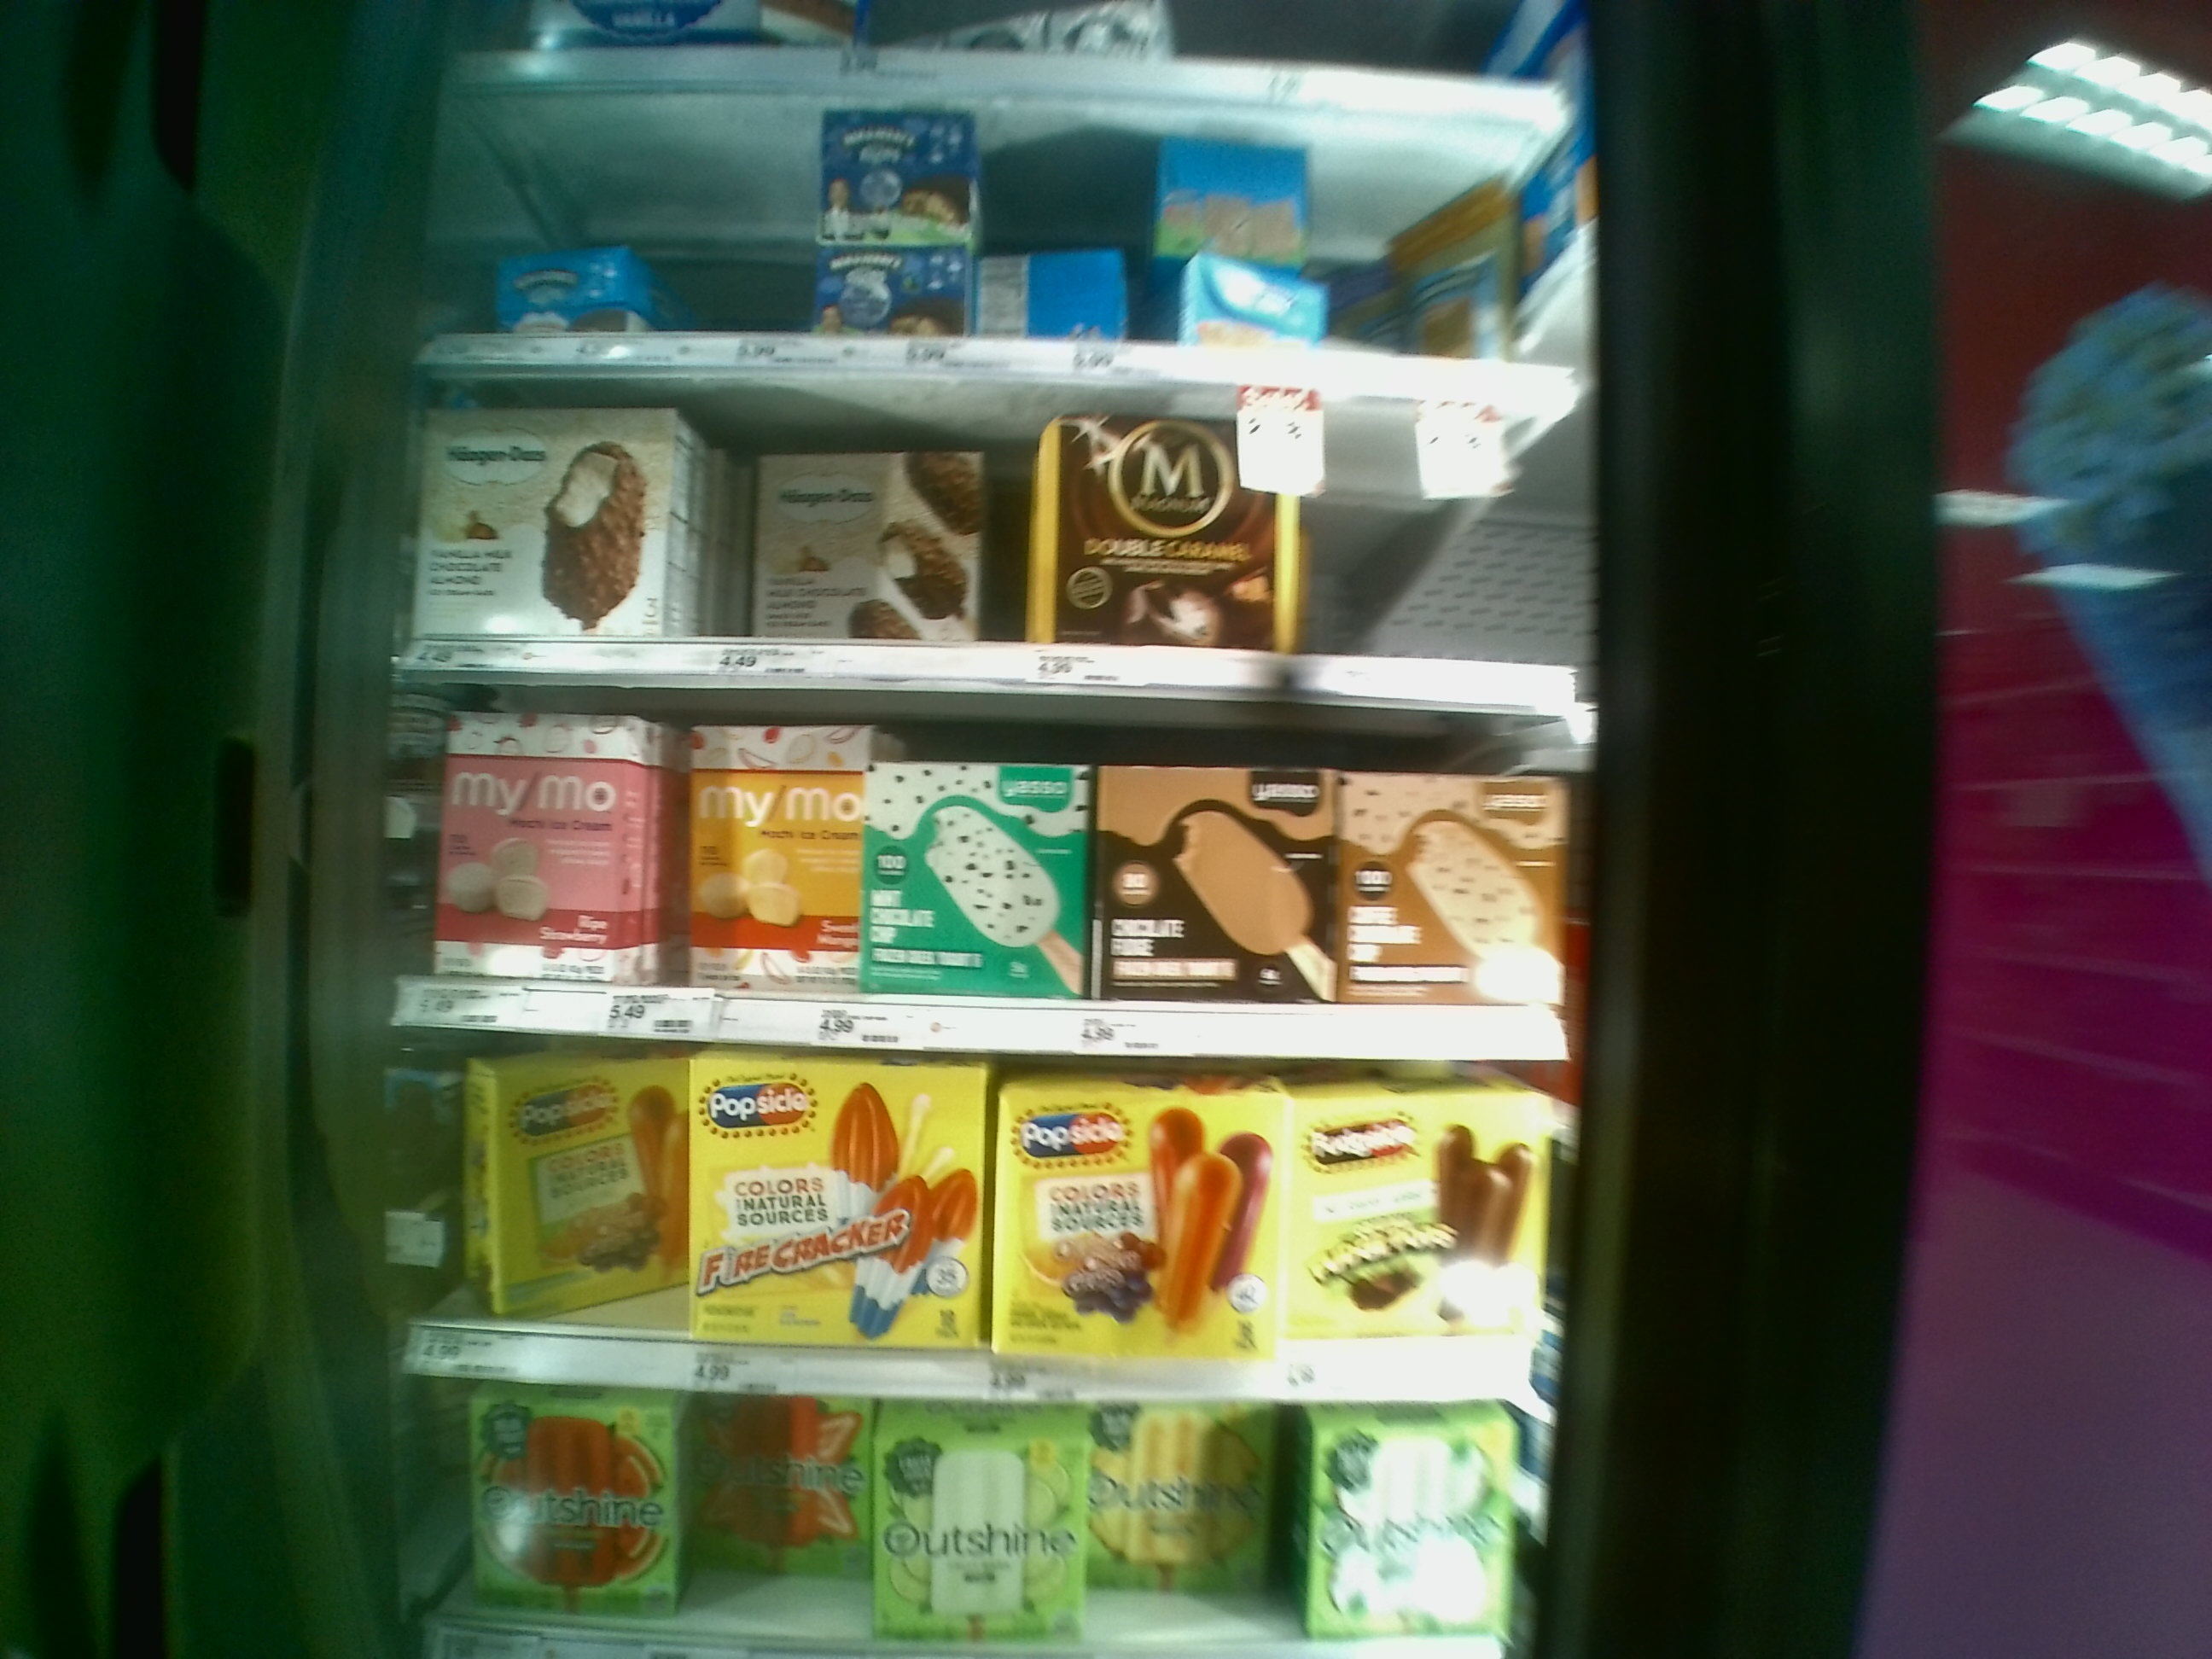shelf: (392, 683, 1594, 1058), (388, 1035, 1554, 1389), (387, 375, 1573, 701)
